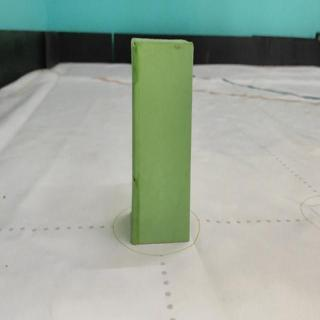greenbox: (129, 35, 194, 245)
